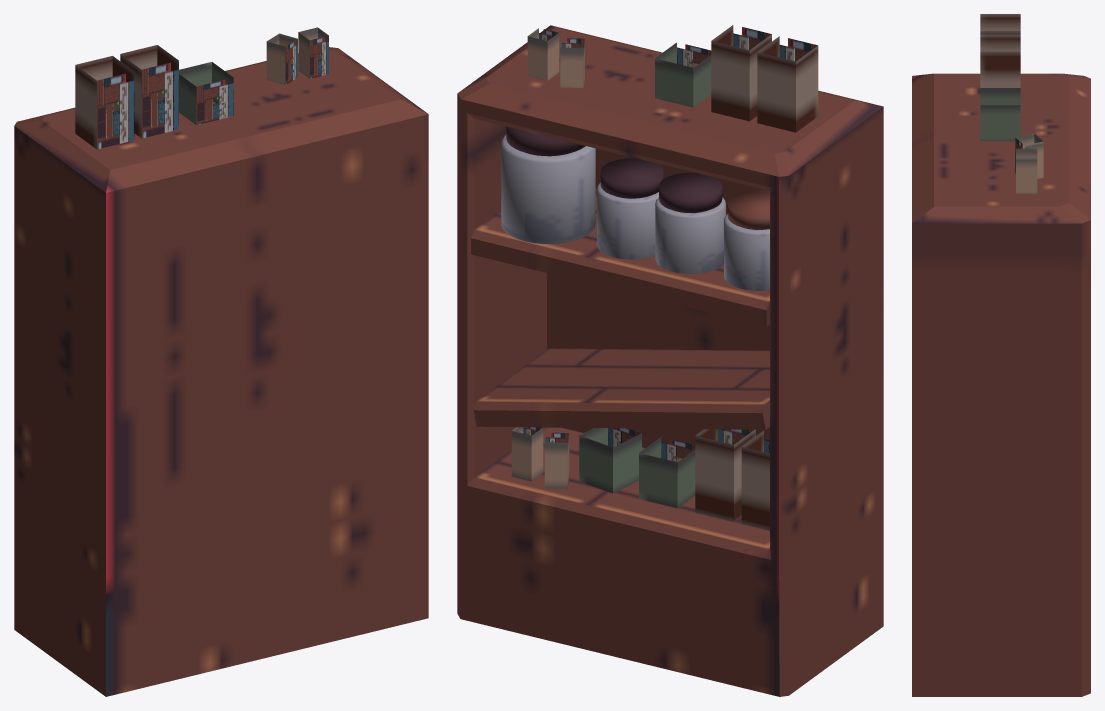
Rendered from Armario3.fbx.
The picture shows the model from 3 angles, left to right: view 1: azimuth 30°, elevation 25°; view 2: azimuth 150°, elevation 25°; view 3: azimuth 270°, elevation 25°; orthographic projection. The views are drawn at different scales.
Visible parts, largest first — view 1: Armario3; view 2: Armario3; view 3: Armario3.
Part boxes in pixels (x1=…): Armario3: x1=14, y1=27, x2=428, y2=696; Armario3: x1=457, y1=25, x2=883, y2=696; Armario3: x1=912, y1=14, x2=1090, y2=696.
Bounding box in the file's own units: 194 × 99.18 × 335.
